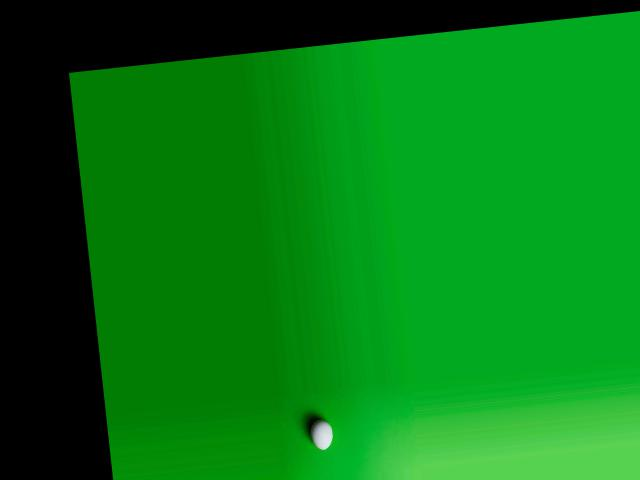egg: (309, 418, 334, 450)
